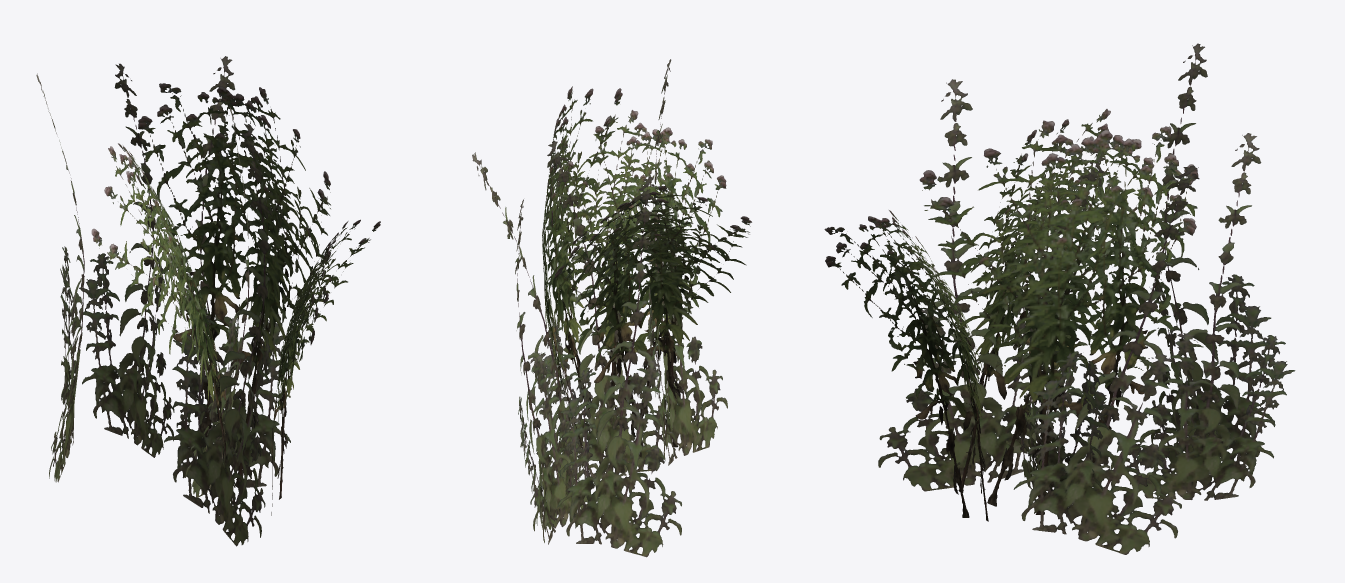
Rendered from mg_9_plant_2.fbx.
3 views of the same model, side by side, from view 1: azimuth 30°, elevation 25°; view 2: azimuth 150°, elevation 25°; view 3: azimuth 270°, elevation 25° (orthographic). The views are drawn at different scales.
Visible parts, largest first — view 1: mg_9_plant_2; view 2: mg_9_plant_2; view 3: mg_9_plant_2.
Boxes of the visible parts, x1,y1,x2,y2 form: mg_9_plant_2: [36, 56, 380, 546]; mg_9_plant_2: [472, 59, 751, 557]; mg_9_plant_2: [824, 43, 1295, 554].
Size of the model in its own units: 105 by 167 by 160.
